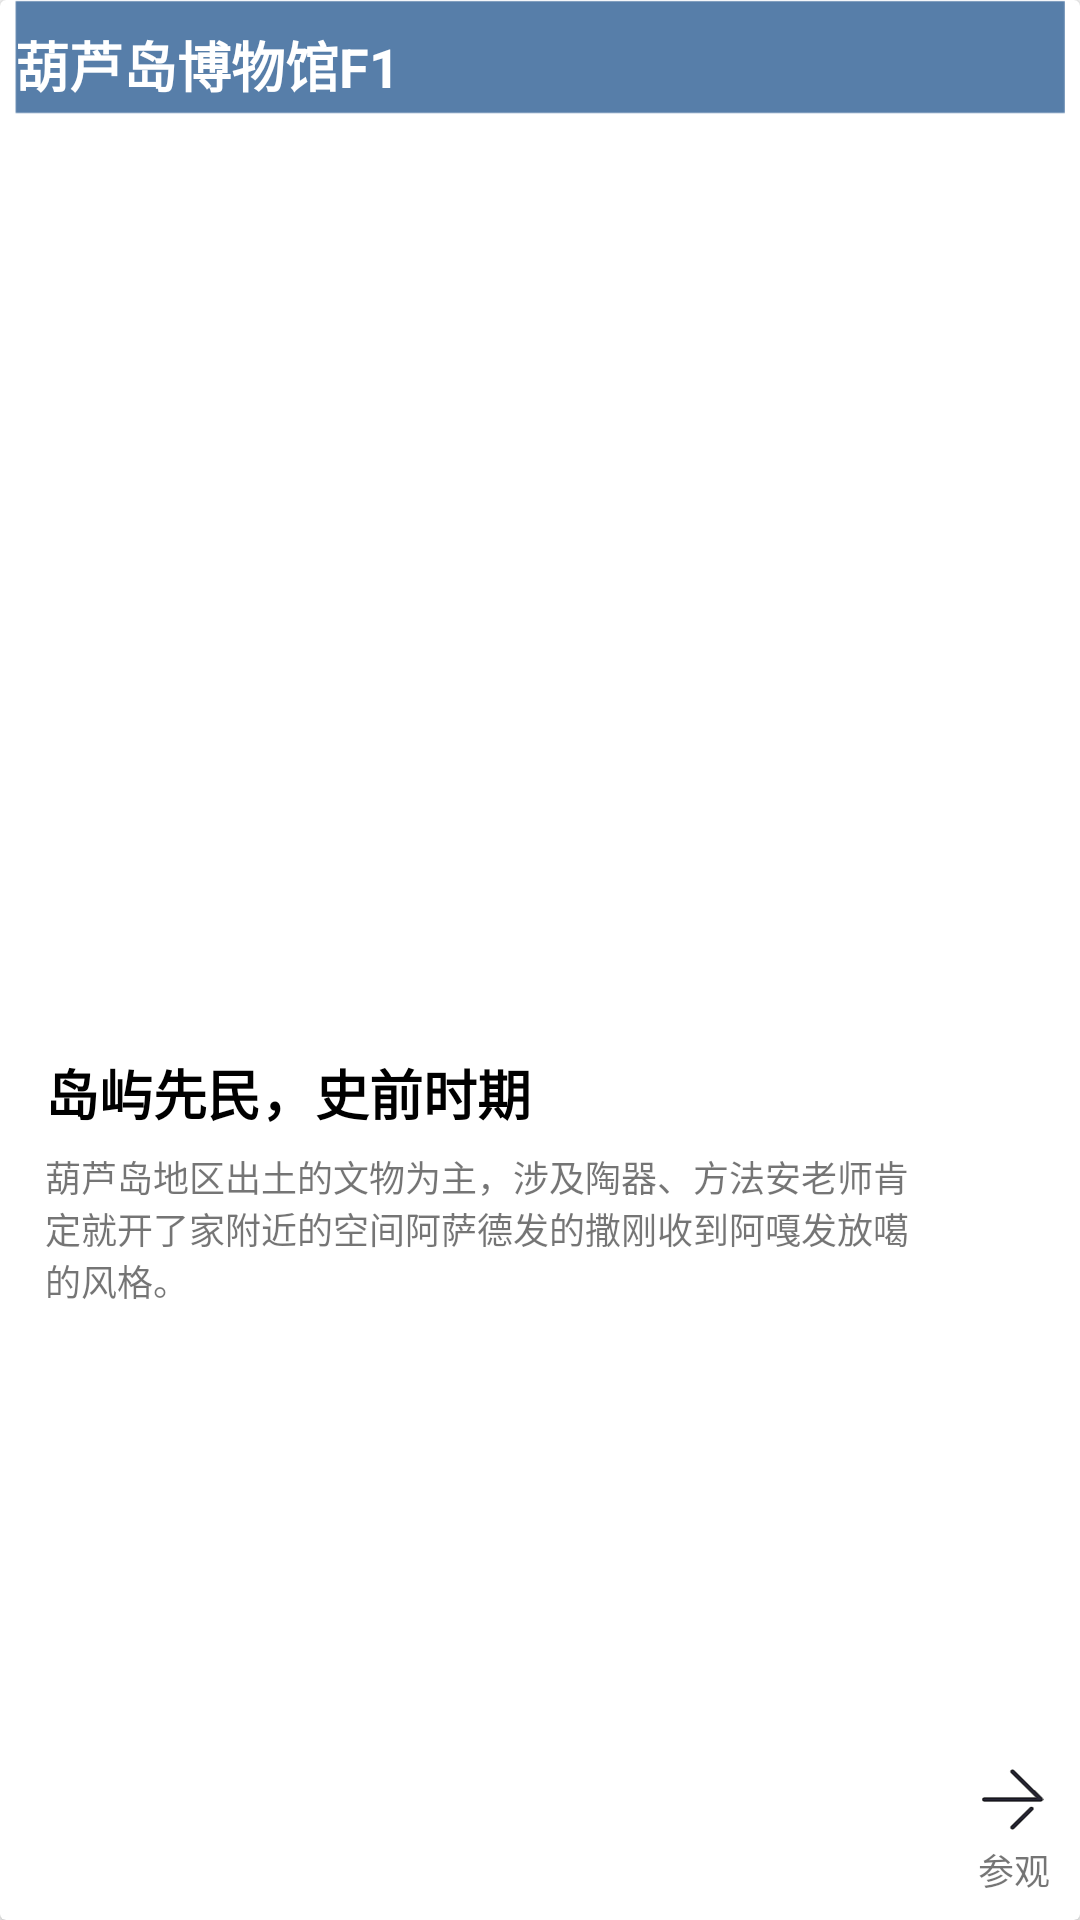

Icons on this 1080×1920 Android screen, each with the point to tap as (x=x, y=y):
jiantou: (x=1013, y=1799)
